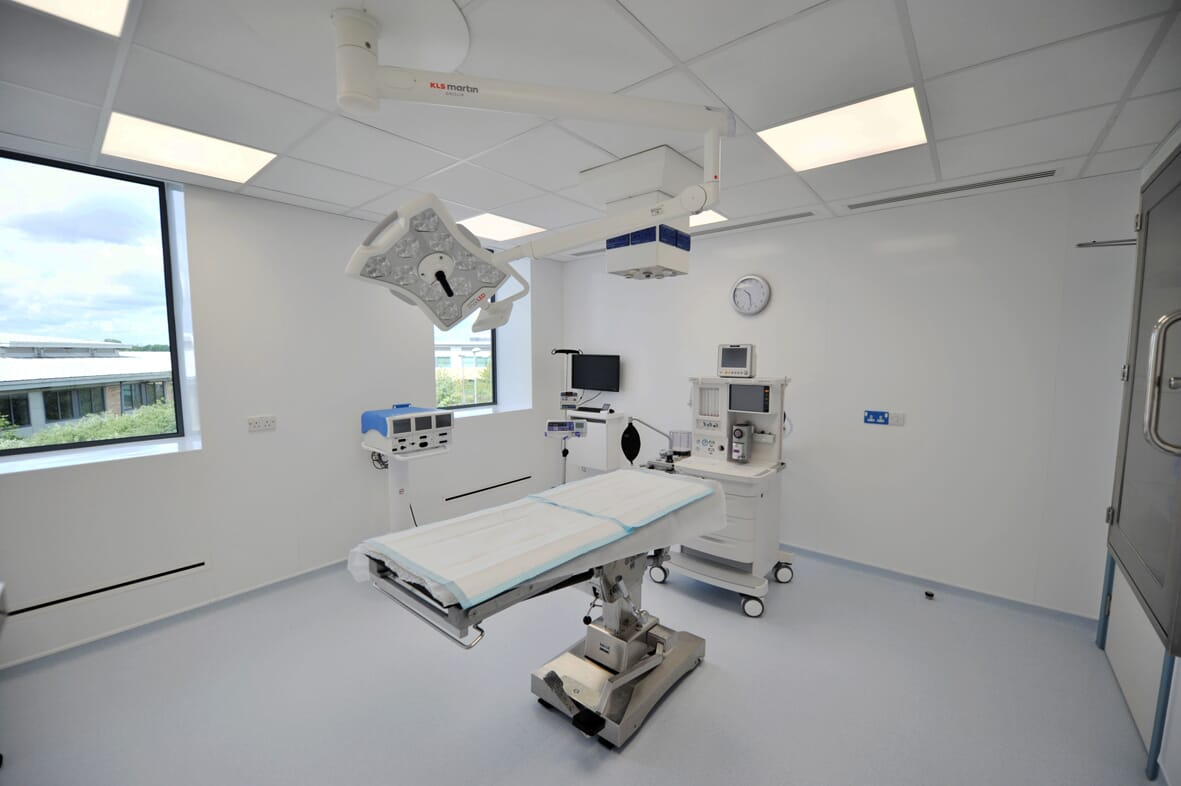bedside_monitor: (723, 384, 773, 416), (715, 341, 753, 379)
bedside_table: (641, 454, 795, 620)
computer: (571, 354, 620, 392)
door_handle: (1143, 308, 1181, 457)
iv_pole: (538, 346, 582, 482)
keyboard: (571, 403, 616, 414)
operating_bed: (347, 465, 728, 751)
surgical_light: (344, 191, 513, 332)
syringe_pump: (545, 419, 588, 440)
ventilator: (625, 375, 787, 590)
